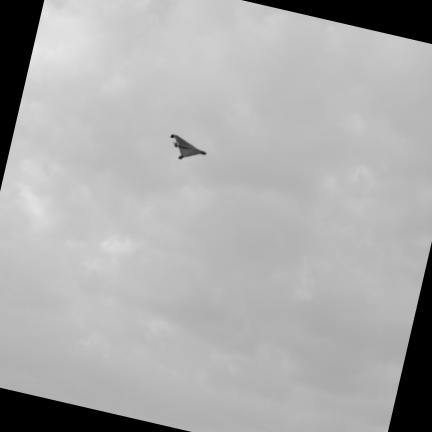Shahed: (171, 136, 205, 158)
